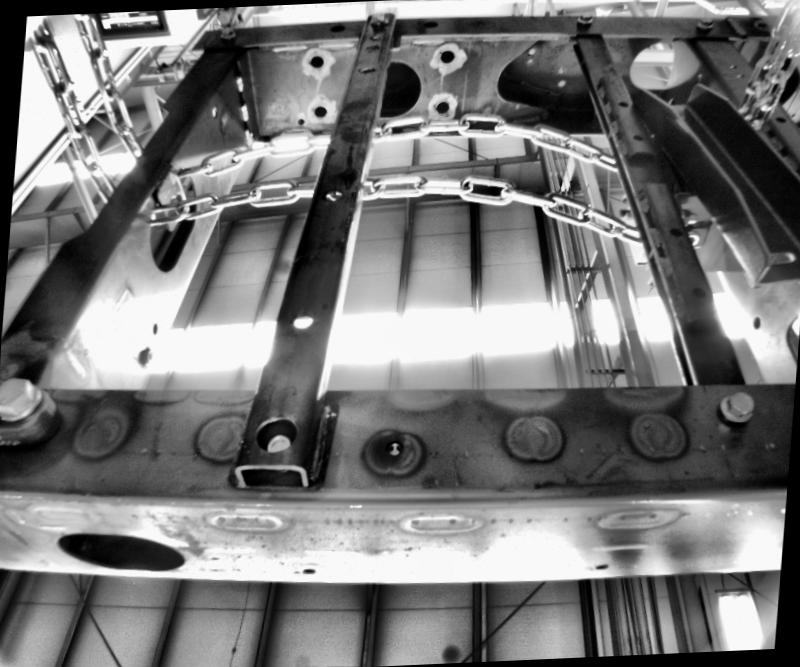bolt: (0, 369, 43, 433), (716, 390, 760, 424), (131, 343, 154, 369), (694, 13, 714, 32), (572, 10, 596, 25), (215, 25, 236, 42), (368, 12, 386, 26)
bracket: (150, 154, 198, 238)
hole: (43, 522, 198, 579), (622, 32, 678, 92), (257, 412, 296, 454), (287, 308, 314, 333), (380, 436, 404, 460), (321, 186, 343, 203), (305, 53, 324, 70), (431, 99, 450, 116), (310, 103, 328, 120), (666, 223, 683, 240), (748, 315, 764, 330), (357, 62, 376, 74), (328, 21, 348, 32), (690, 285, 704, 300), (438, 50, 453, 64), (594, 561, 607, 574), (301, 565, 316, 576), (421, 20, 437, 27), (618, 99, 628, 110), (150, 322, 158, 335), (556, 63, 564, 74), (554, 78, 565, 86), (632, 133, 642, 141), (368, 34, 378, 42), (774, 117, 784, 124), (726, 62, 736, 68), (297, 118, 304, 124), (734, 74, 744, 78), (797, 147, 799, 161)
welding: (230, 74, 246, 94), (238, 101, 249, 120), (242, 128, 253, 147)
